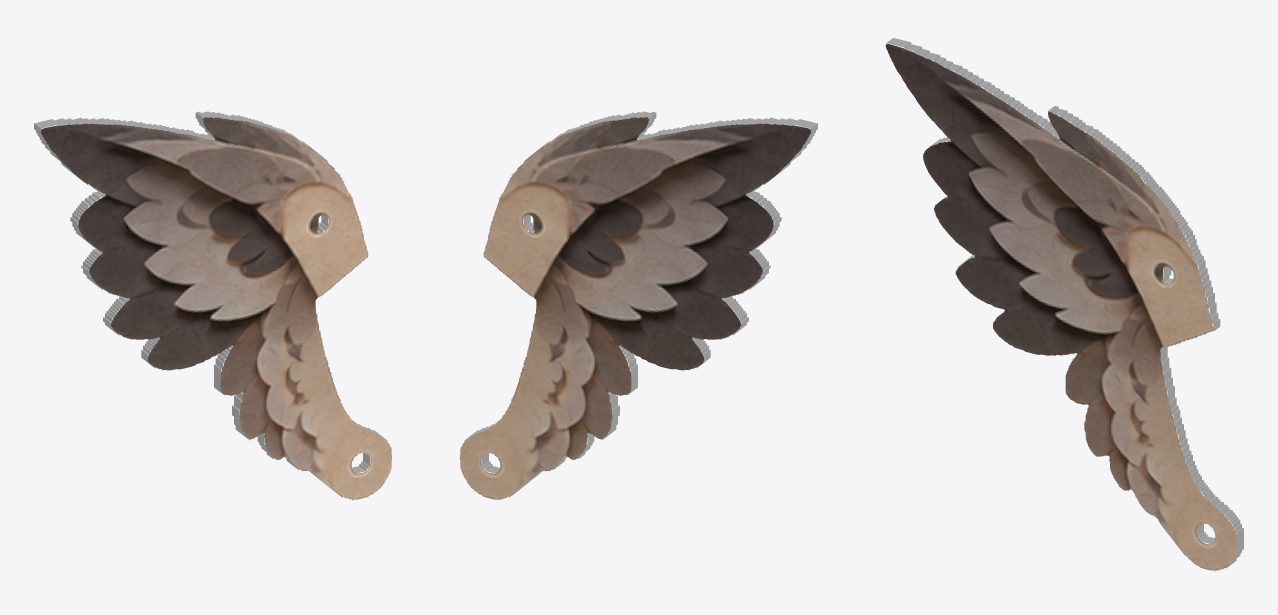
File: RootLeft.glb
The picture shows the model from 3 angles, left to right: view 1: azimuth 30°, elevation 25°; view 2: azimuth 150°, elevation 25°; view 3: azimuth 330°, elevation 25°; orthographic projection.
Visible parts, largest first — view 1: PaperVolume; view 2: PaperVolume; view 3: PaperVolume.
Part boxes in pixels (x1,y1,x2,y2): PaperVolume: (34, 111, 392, 500); PaperVolume: (459, 111, 817, 500); PaperVolume: (885, 38, 1243, 571).
Bounding box in the file's own units: 2.53 × 3.01 × 0.08.
Materials: 3 (2 with a texture image).
